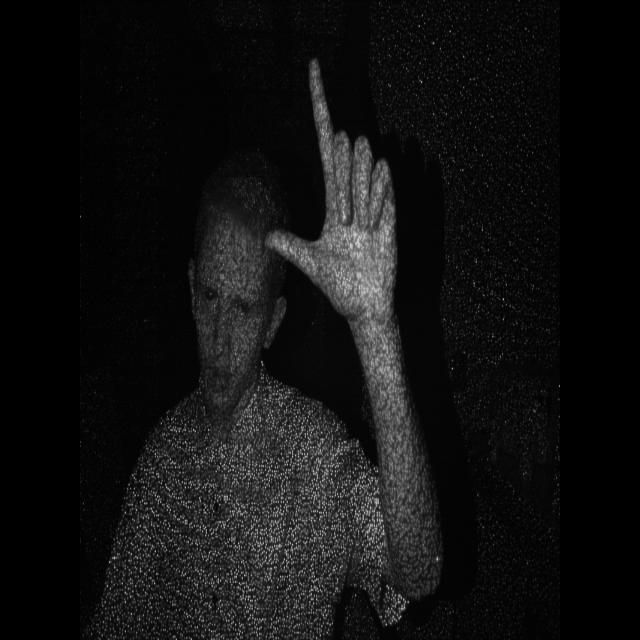L: (254, 38, 408, 329)
